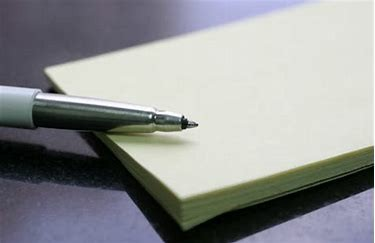pen: (1, 81, 206, 131)
